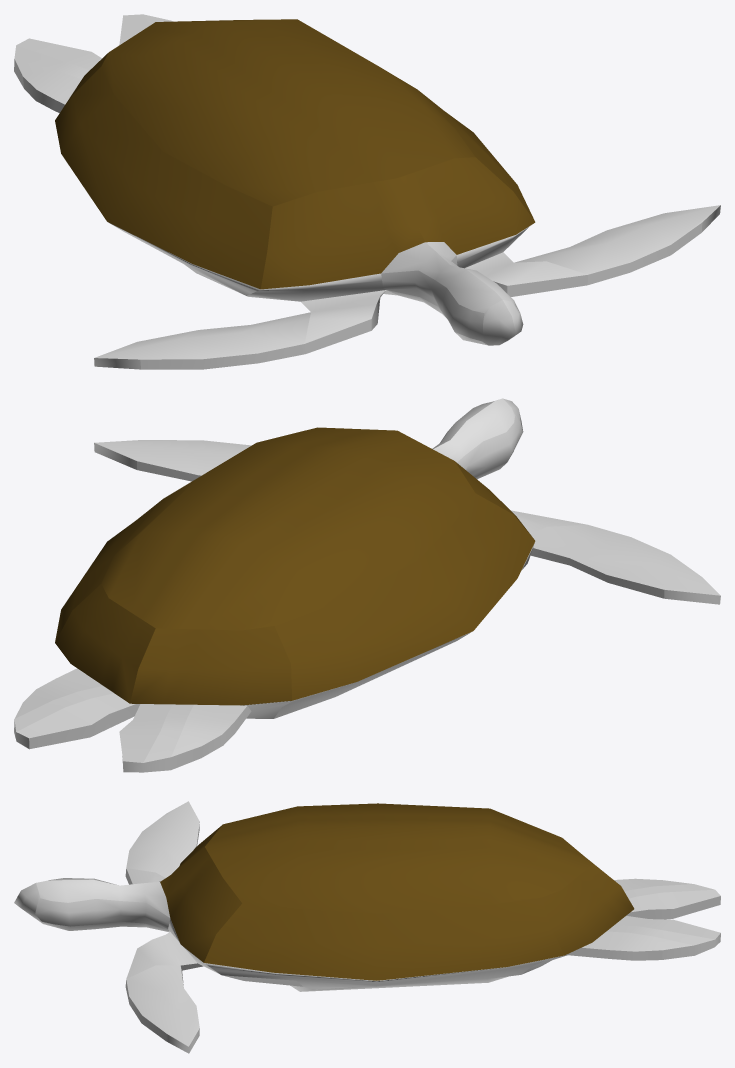
The model's file is Kame01.fbx.
3 views of the same model, one above another, from view 1: azimuth 30°, elevation 25°; view 2: azimuth 150°, elevation 25°; view 3: azimuth 270°, elevation 25° (orthographic). The views are drawn at different scales.
Visible parts, largest first — view 1: Kame_Body; view 2: Kame_Body; view 3: Kame_Body.
Boxes of the visible parts, left/top/right/bottom form: Kame_Body: left=14, top=14, right=720, bottom=369; Kame_Body: left=14, top=398, right=720, bottom=772; Kame_Body: left=14, top=801, right=720, bottom=1053.
Bounding box in the file's own units: 7.38 × 1.9 × 8.98.
